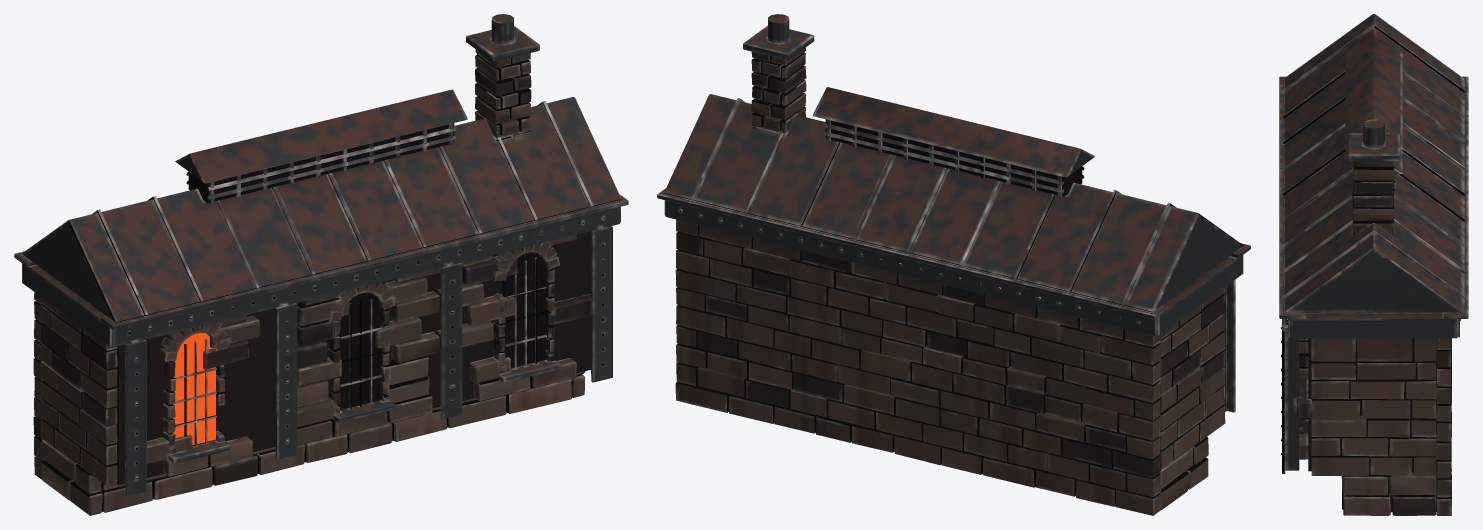
File: foundry_gatehouse.glb
The picture shows the model from 3 angles, left to right: view 1: azimuth 30°, elevation 25°; view 2: azimuth 150°, elevation 25°; view 3: azimuth 270°, elevation 25°; orthographic projection. The views are drawn at different scales.
Parts seen in each view (by area): view 1: foundry_gatehouse, foundry_gatehouse_glow; view 2: foundry_gatehouse; view 3: foundry_gatehouse.
Boxes of the visible parts, x1,y1,x2,y2 form: foundry_gatehouse: (14, 14, 628, 515); foundry_gatehouse_glow: (172, 332, 215, 445); foundry_gatehouse: (657, 14, 1250, 515); foundry_gatehouse: (1279, 14, 1468, 515).
Bounding box in the file's own units: 12.5 × 8.85 × 4.19.
2 materials, 1 textured.
